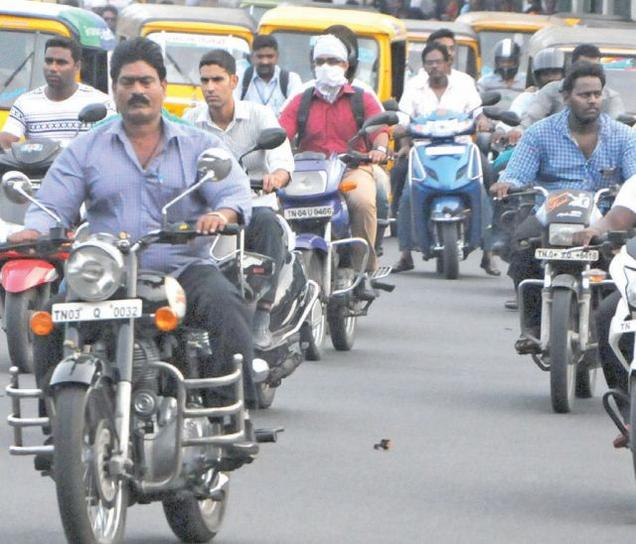NumberPlate: (52, 302, 141, 318), (535, 248, 599, 261), (283, 207, 334, 217)
no-helmet: (110, 38, 168, 130), (561, 62, 605, 134), (199, 50, 239, 118), (43, 38, 82, 96)
vehicle: (28, 232, 184, 544), (529, 185, 597, 411), (285, 149, 346, 361), (410, 116, 484, 273)
